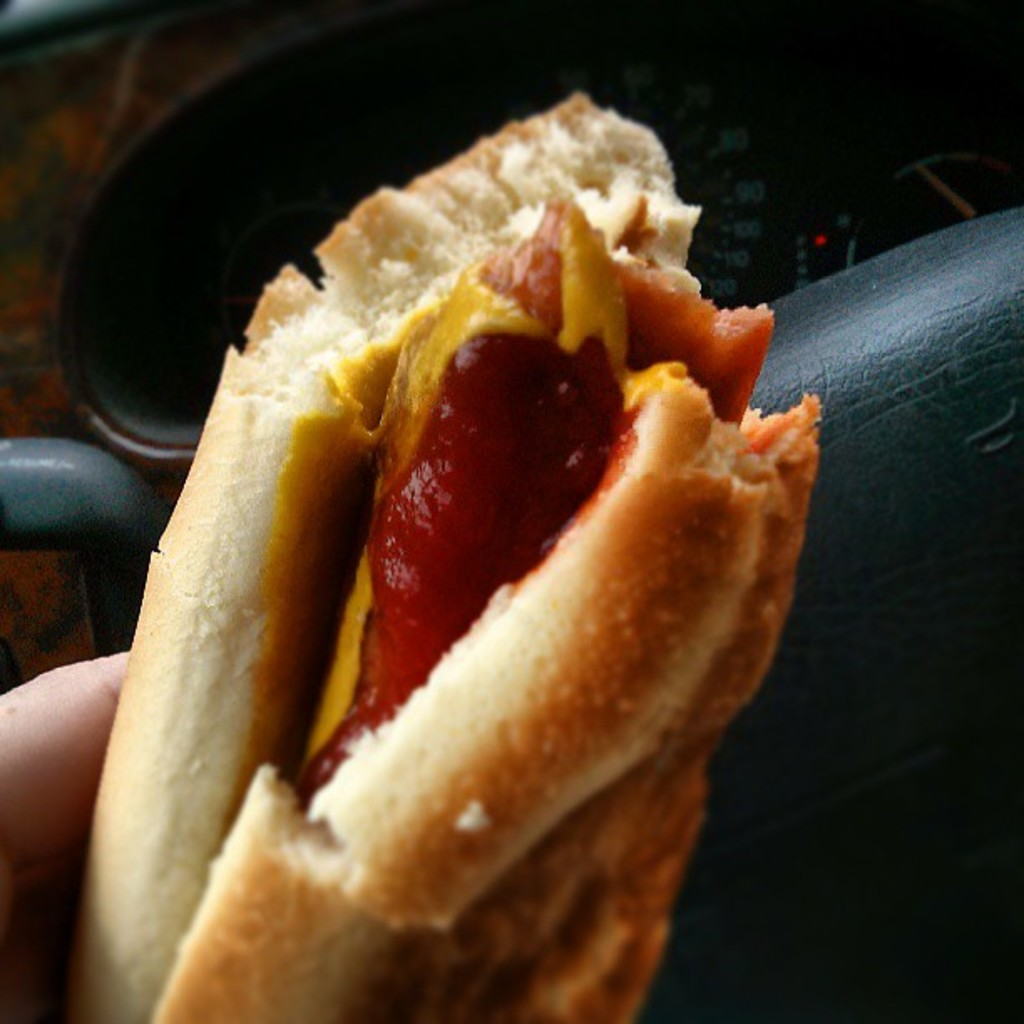hot_dog: (47, 79, 835, 1022)
